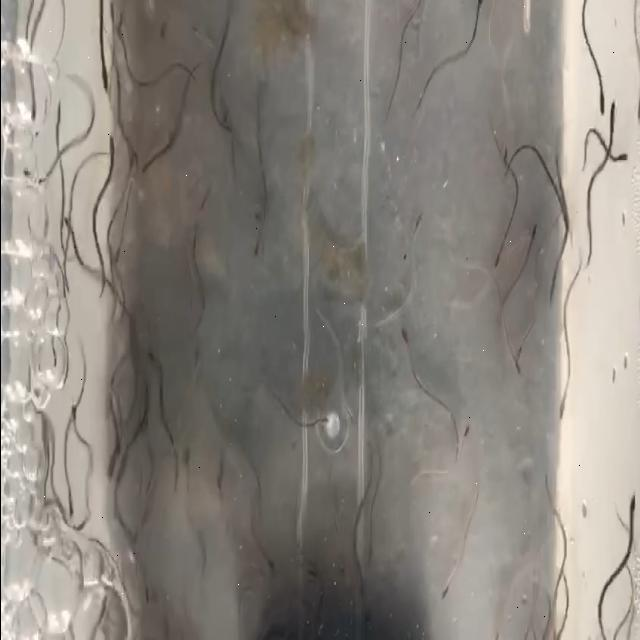active_glass_eel: (242, 188, 274, 252), (98, 433, 127, 491), (248, 236, 272, 302), (324, 524, 350, 584), (516, 304, 540, 362), (404, 207, 425, 271), (207, 90, 236, 135), (134, 150, 160, 198), (214, 440, 236, 496), (438, 558, 462, 609), (101, 0, 123, 55), (492, 125, 514, 177), (106, 228, 132, 270), (623, 486, 639, 554), (553, 378, 575, 424), (82, 200, 104, 246), (310, 390, 330, 438), (62, 402, 86, 442), (58, 482, 82, 522), (454, 420, 475, 465), (363, 514, 381, 566), (495, 580, 511, 638), (102, 124, 120, 174), (180, 346, 207, 379), (589, 68, 607, 116), (112, 544, 136, 580), (518, 220, 538, 263), (508, 337, 524, 388), (484, 240, 508, 274), (348, 565, 372, 599), (542, 274, 564, 310), (614, 124, 626, 188), (458, 0, 482, 32), (600, 101, 618, 141), (400, 330, 418, 370), (58, 214, 78, 250), (261, 546, 279, 584), (146, 340, 168, 370), (98, 62, 113, 106), (188, 468, 205, 506), (558, 195, 572, 238), (26, 89, 40, 132), (85, 266, 96, 318), (50, 101, 64, 141), (180, 442, 198, 472), (122, 140, 138, 172), (304, 556, 318, 584)
